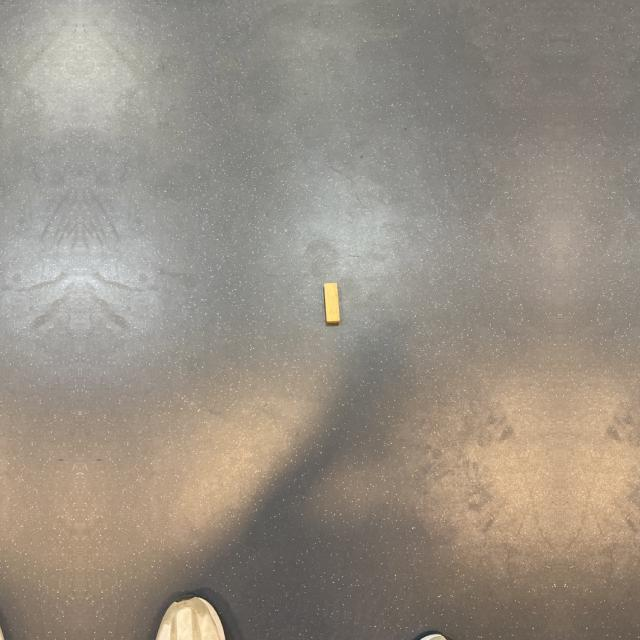jenga: (324, 281, 341, 323)
